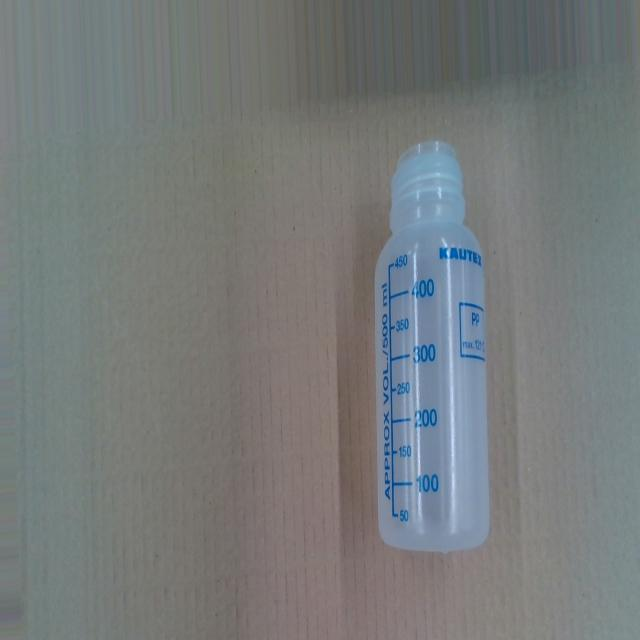bottle: (376, 137, 493, 548)
